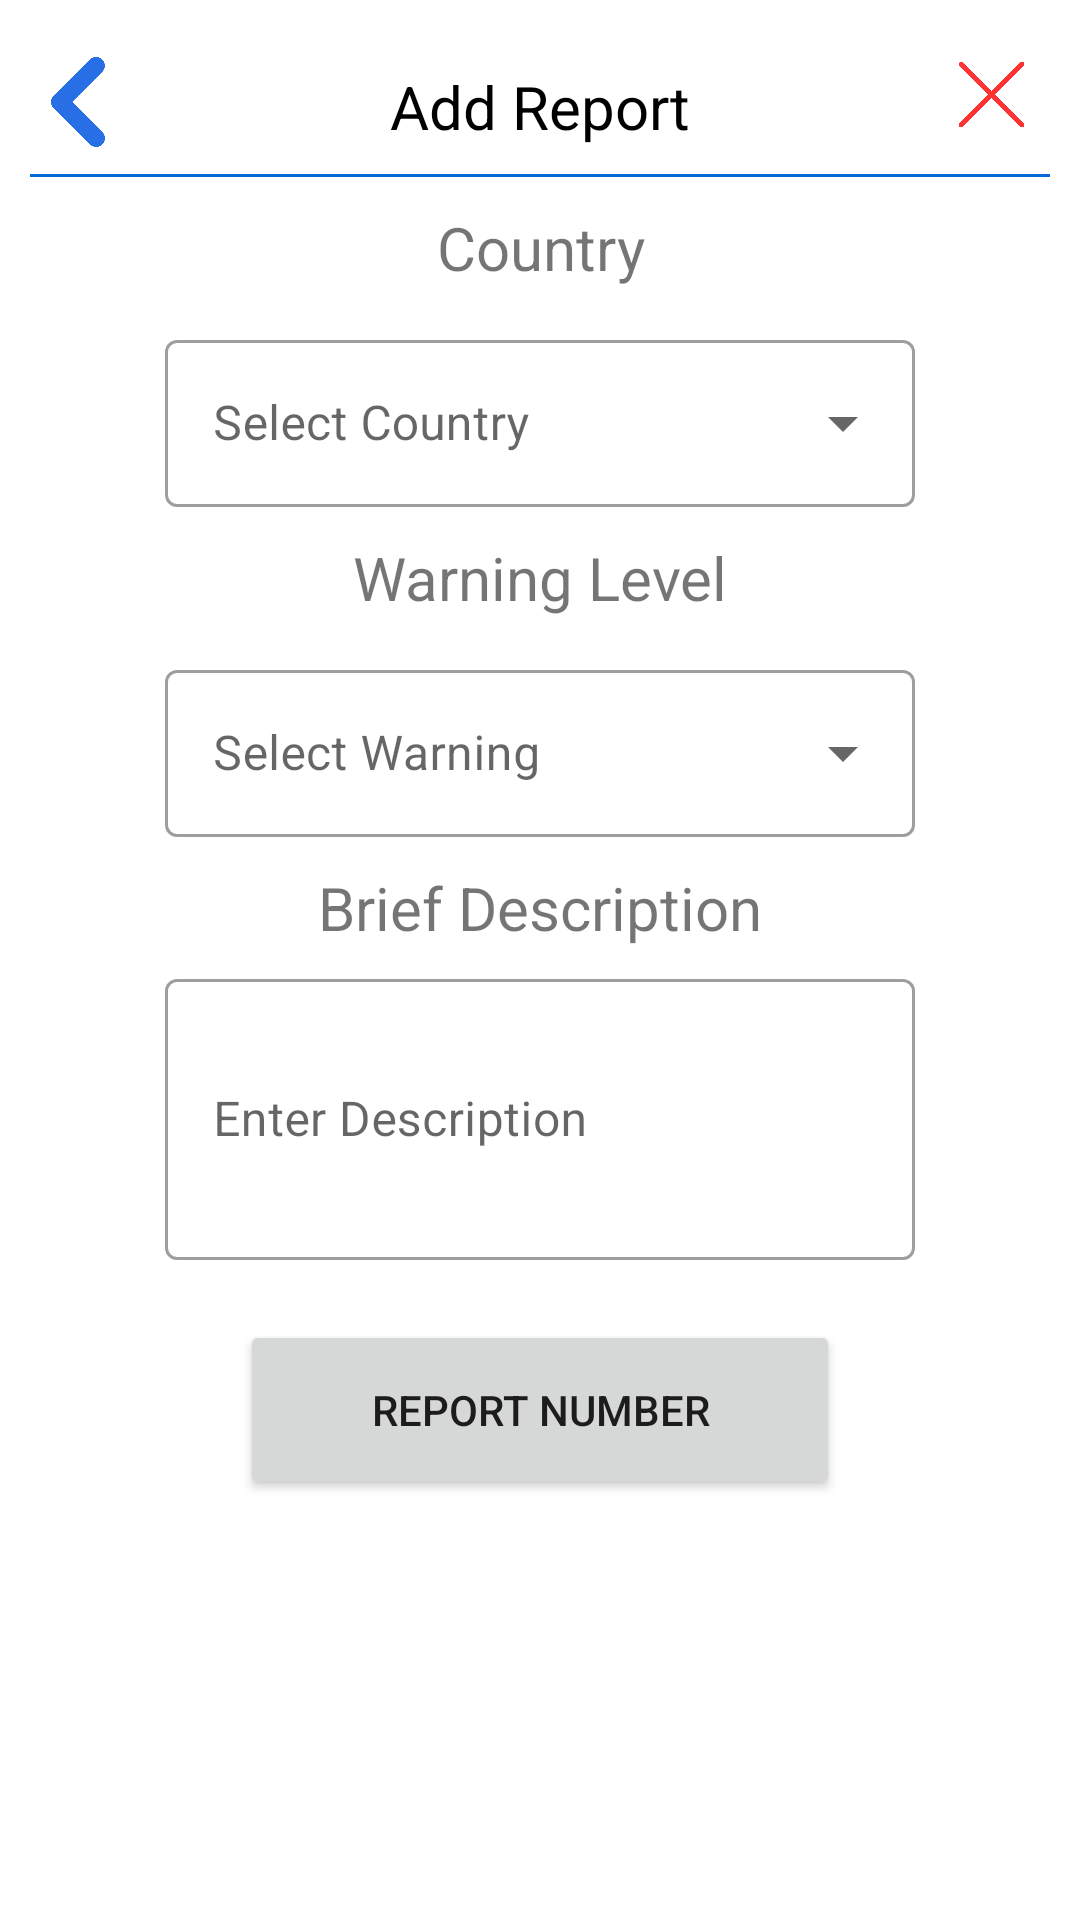

Icon click points for this 1080px×1920px phone screenshot, format (x=x, y=y):
cancel: (x=991, y=94)
go back: (x=78, y=102)
